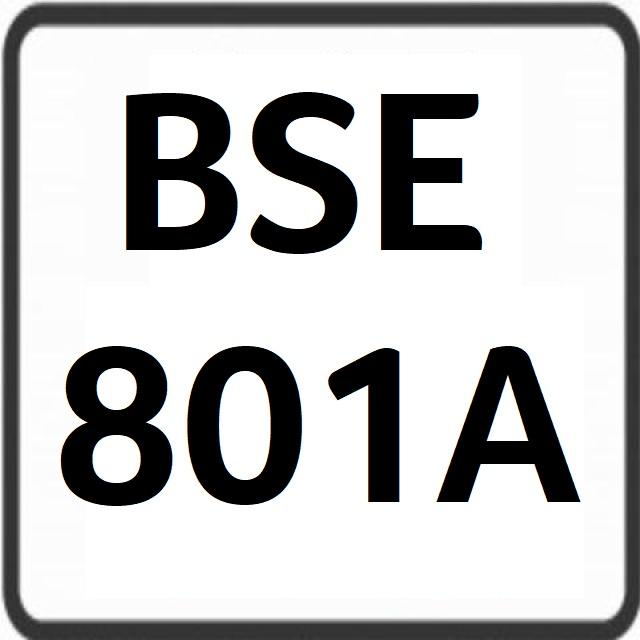8: (54, 332, 172, 516)
A: (431, 306, 583, 534)
B: (116, 79, 239, 262)
C: (249, 76, 358, 253)
E: (373, 68, 491, 265)
